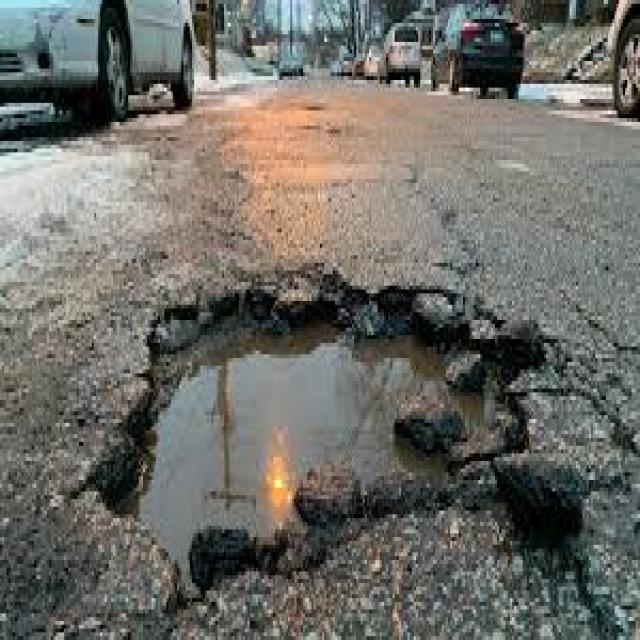Pothole: (126, 282, 540, 606)
